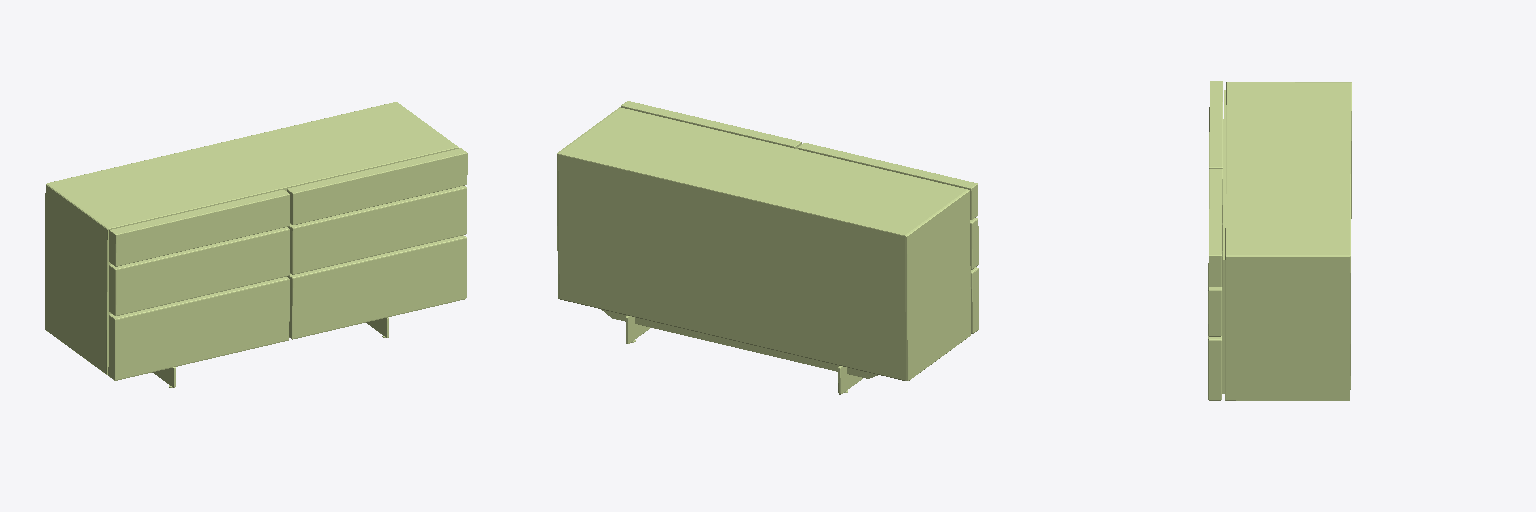
Rendered from pandorabox.obj.
The picture shows the model from 3 angles: view 1: azimuth 30°, elevation 25°; view 2: azimuth 150°, elevation 25°; view 3: azimuth 270°, elevation 25°; orthographic projection.
Parts seen in each view (by area): view 1: pandora-dressoir; view 2: pandora-dressoir; view 3: pandora-dressoir.
Boxes of the visible parts, <box> form: pandora-dressoir: <box>45,102,467,387</box>; pandora-dressoir: <box>557,101,978,394</box>; pandora-dressoir: <box>1208,81,1351,400</box>.
Size of the model in its own units: 4.12 by 2 by 1.45.